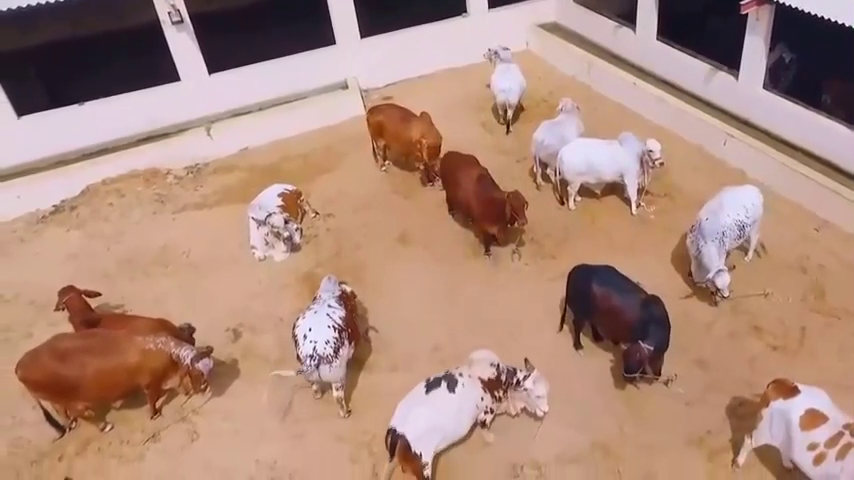bo: (9, 318, 216, 436), (380, 339, 548, 469), (554, 248, 673, 401), (718, 364, 848, 475), (684, 162, 772, 312), (434, 142, 535, 272), (545, 123, 671, 223), (280, 263, 363, 414), (46, 270, 203, 341), (235, 167, 329, 275), (352, 91, 442, 182), (477, 40, 535, 136), (530, 88, 586, 176)
